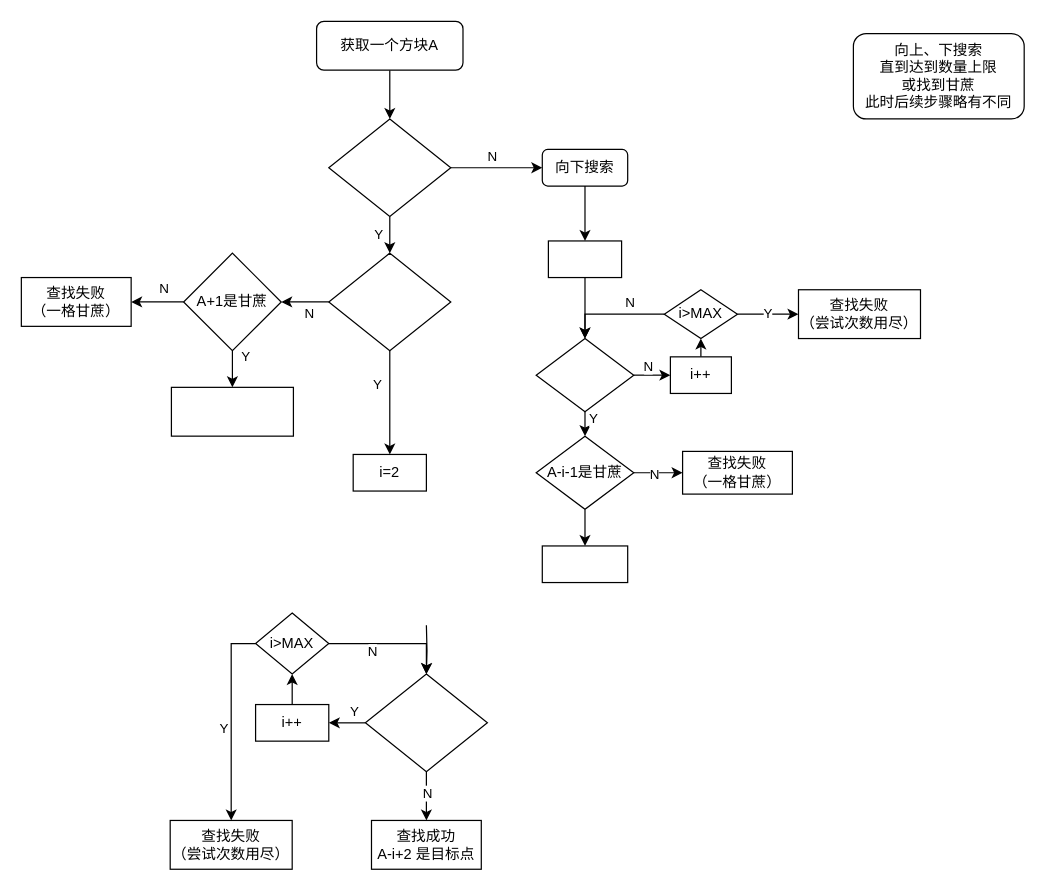
This 1046x891 diagram has some shape labels left out. The centre of each missing label's shape, as x and y in pixels:
"A-1是甘蔗" belongs at point 389,301.
"A-i 是甘蔗" belongs at point 584,374.
"A是甘蔗" belongs at point 389,167.
"B-i 是甘蔗" belongs at point 425,722.
"B=A-i" belongs at point 584,564.
"i=1" belongs at point 584,259.
"查找成功 A+1 是目标点" belongs at point 231,411.
